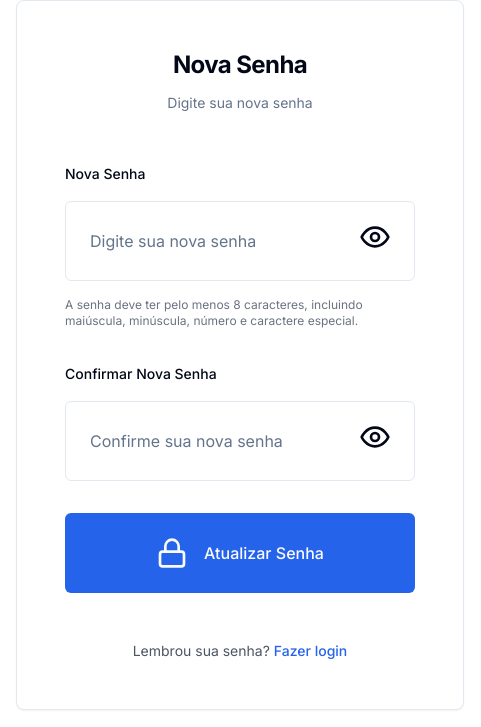
UpdatePasswordForm › Password Update Success › shows loading state during password update
Type "NewPassword123!" into the password field with placeholder "Digite sua nova senha". click: (240, 241)
box: [65,201,415,281]
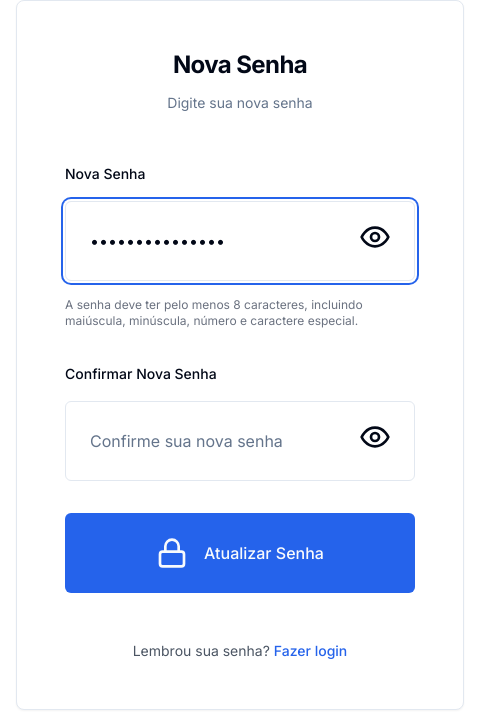
Type "NewPassword123!" into the password field with placeholder "Confirme sua nova senha". click: (240, 441)
box: [65,401,415,481]
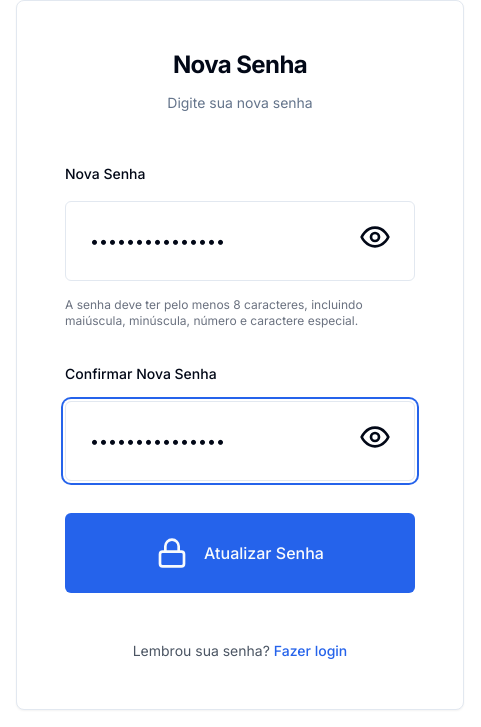
Click the button "Atualizar Senha". click: (240, 553)
box: [65,513,415,593]
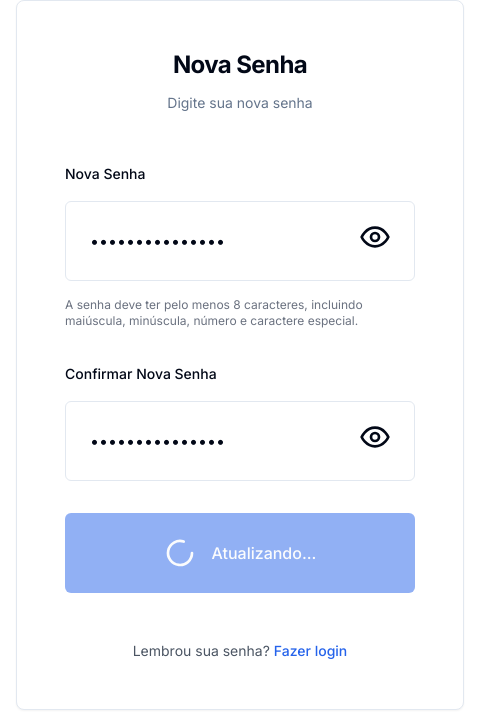
Check: the button named "atualizar senha" is disabled, box [65,513,415,593]
